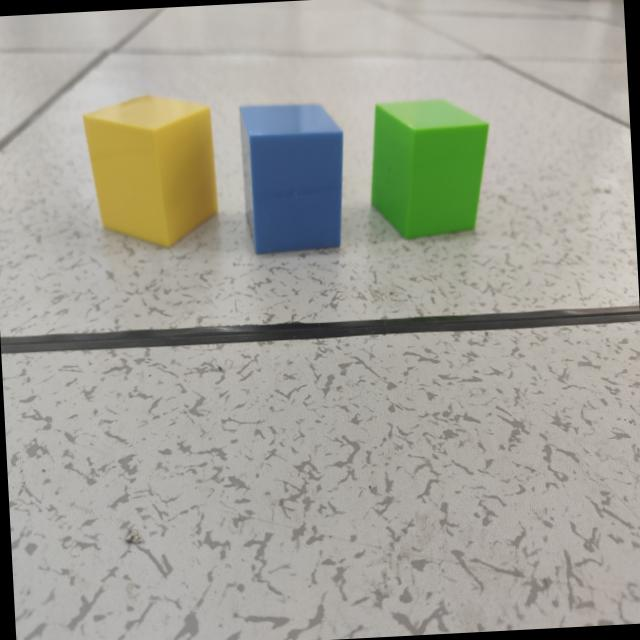blue: (238, 104, 345, 259)
green: (370, 100, 490, 241)
yellow: (82, 97, 219, 249)
